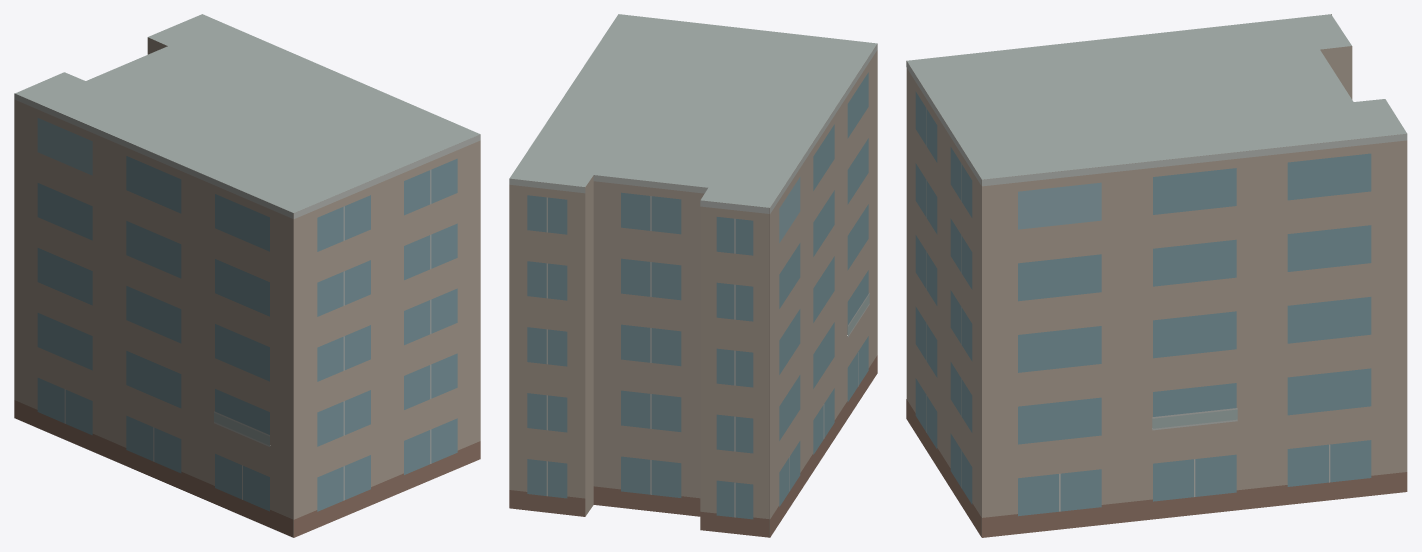
File: survey-upis-32622133.glb
The picture shows the model from 3 angles, left to right: view 1: azimuth 30°, elevation 25°; view 2: azimuth 150°, elevation 25°; view 3: azimuth 270°, elevation 25°; orthographic projection. The views are drawn at different scales.
Parts seen in each view (by area): view 1: survey-upis-32622133.tmp; view 2: survey-upis-32622133.tmp; view 3: survey-upis-32622133.tmp.
Part boxes in pixels (bbox=[...]): survey-upis-32622133.tmp: bbox=[14, 14, 480, 537]; survey-upis-32622133.tmp: bbox=[509, 14, 877, 537]; survey-upis-32622133.tmp: bbox=[906, 14, 1407, 537].
Size of the model in its own units: 12.9 by 13 by 16.48.
